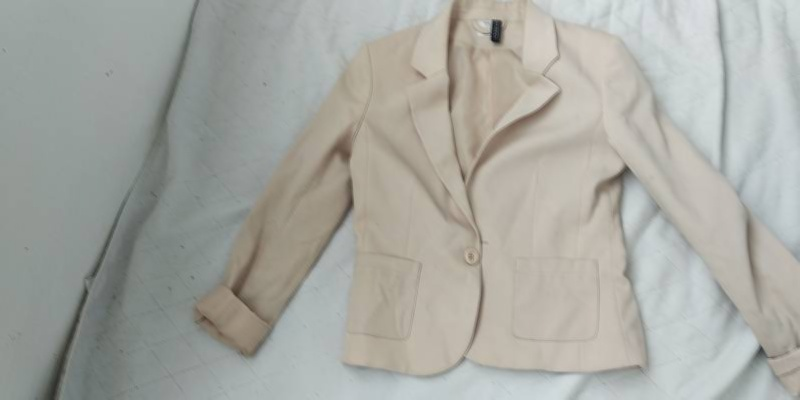Blazer: (193, 2, 798, 391)
